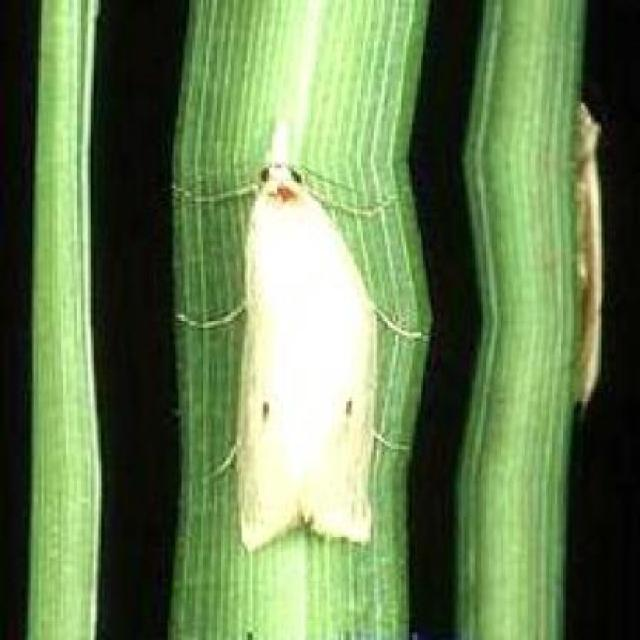stem-borer: (183, 82, 400, 553)
